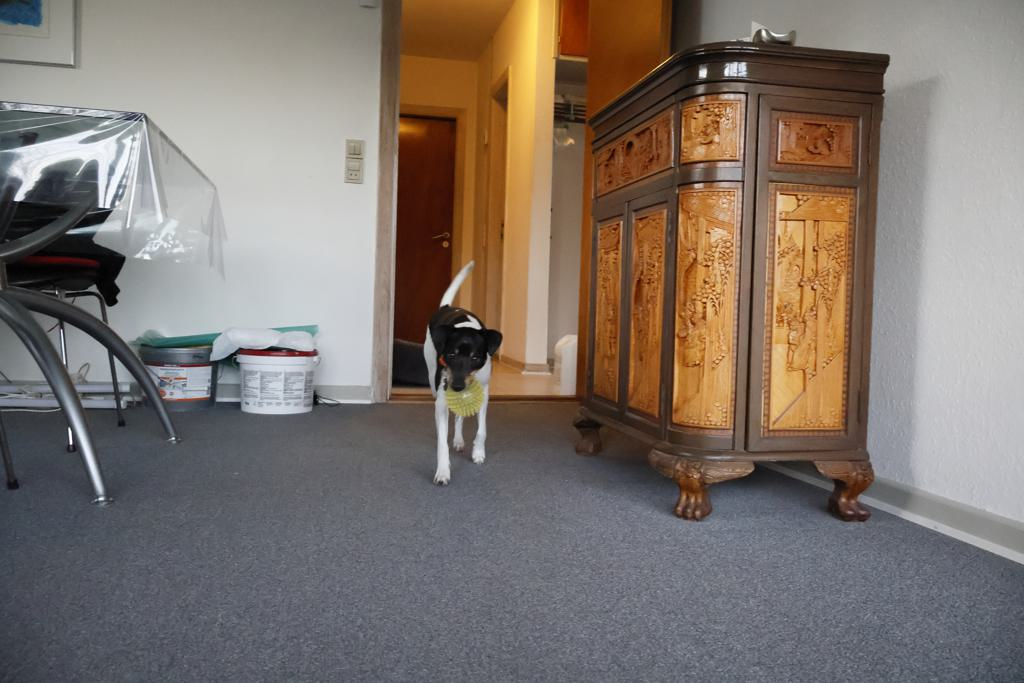Dog: (412, 253, 513, 491)
